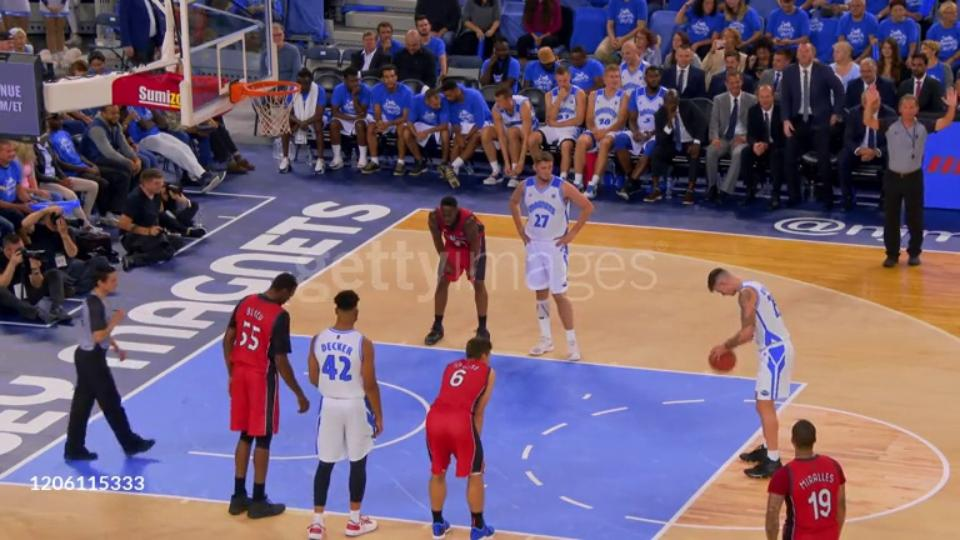hoop: (228, 78, 302, 102)
